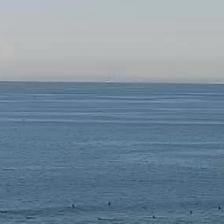surfer: (96, 216, 106, 221), (107, 201, 112, 206), (189, 210, 193, 215), (151, 214, 156, 218), (71, 204, 76, 208), (1, 210, 6, 214), (217, 206, 221, 210)
